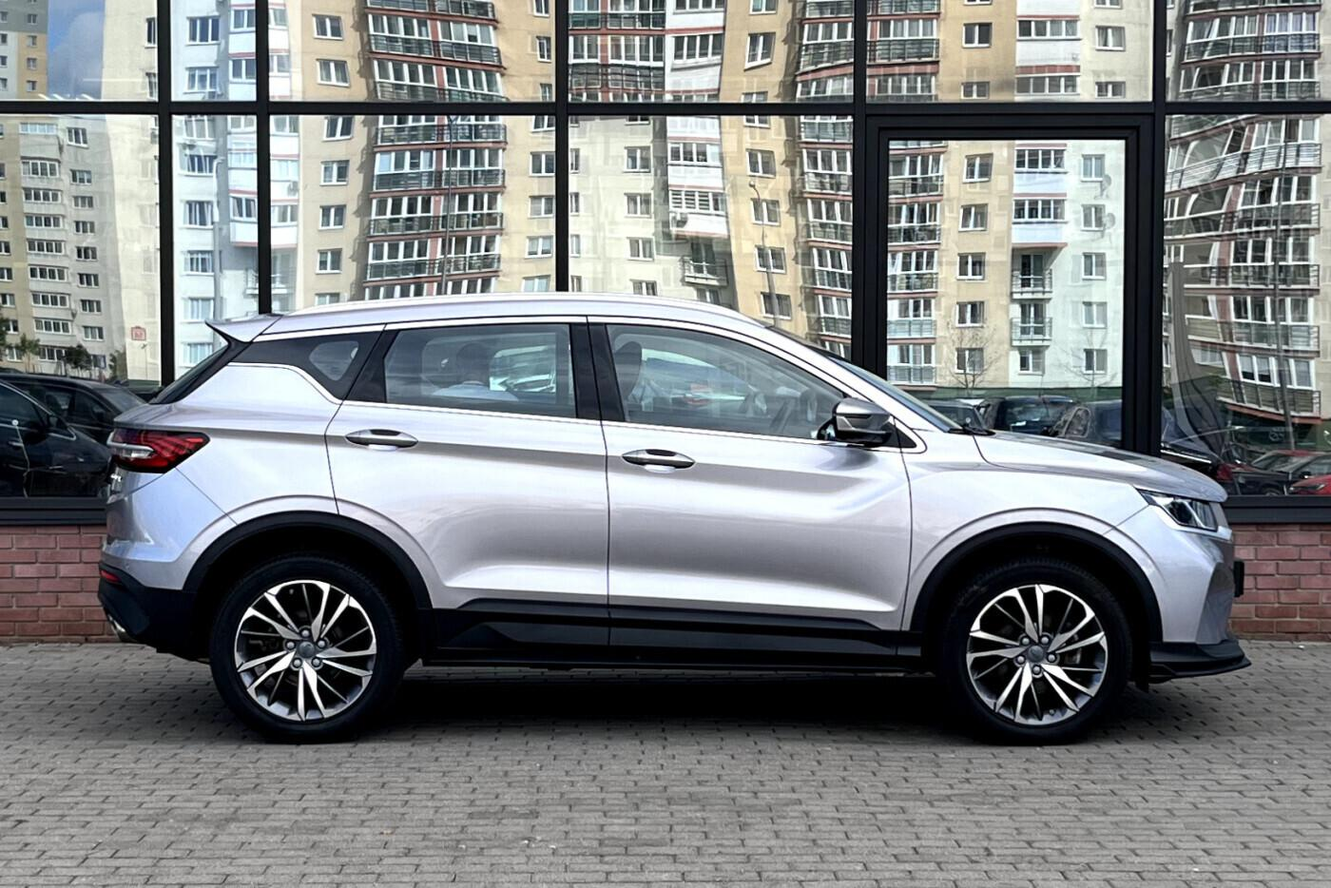Coolray_2019-2023: (96, 295, 1255, 750)
